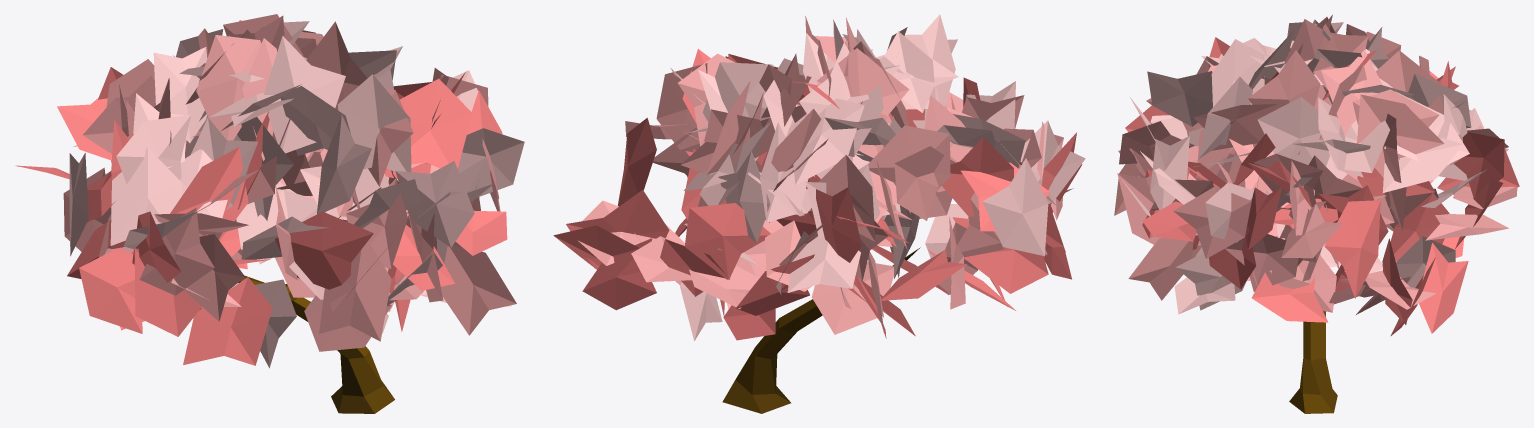
The picture shows the model from 3 angles, left to right: view 1: azimuth 30°, elevation 25°; view 2: azimuth 150°, elevation 25°; view 3: azimuth 270°, elevation 25°; orthographic projection. The views are drawn at different scales.
Visible parts, largest first — view 1: SakuraTree; view 2: SakuraTree; view 3: SakuraTree.
Boxes of the visible parts, x1,y1,x2,y2 form: SakuraTree: (15,14,524,413); SakuraTree: (553,14,1085,413); SakuraTree: (1114,14,1519,413).
Size of the model in its own units: 5.58 by 4.79 by 5.05.
1 material, 1 textured.
